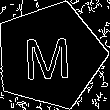M_N: (25, 29, 75, 82)
